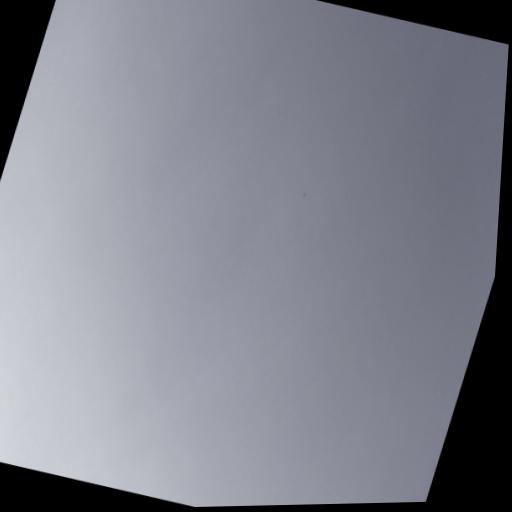drones: (302, 191, 307, 198)
